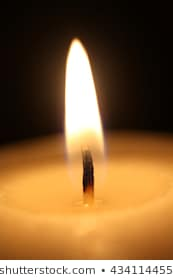Fire: (57, 37, 111, 159)
